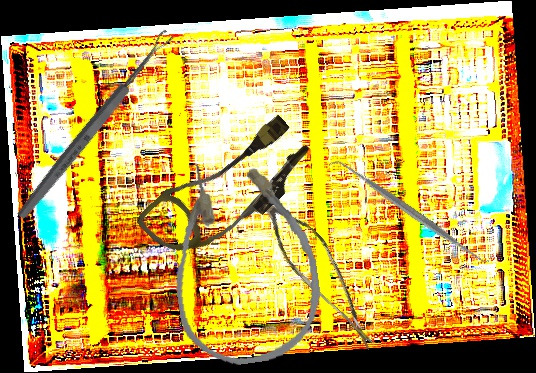Cannula: (159, 148, 329, 372), (134, 98, 321, 282)
Micro Scissor: (244, 197, 405, 352)
Spatula Surgical: (327, 149, 493, 274)
Surgical Spoon: (14, 28, 176, 222)
